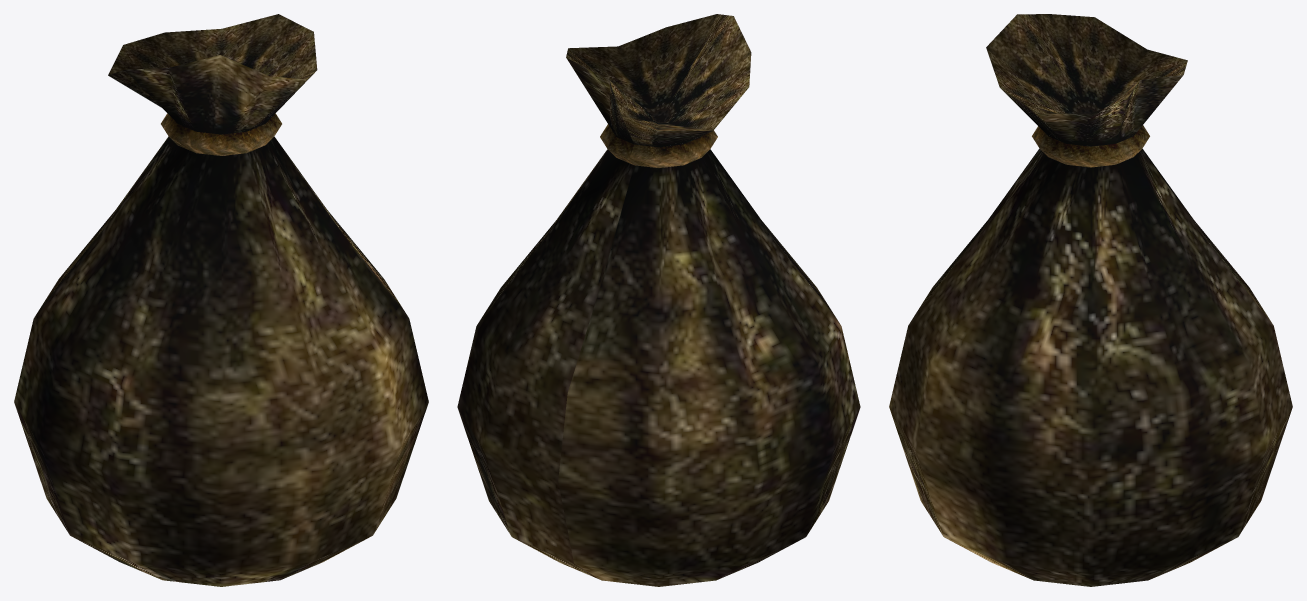
Rendered from KM_POCKET_09.glb.
The picture shows the model from 3 angles, left to right: view 1: azimuth 30°, elevation 25°; view 2: azimuth 150°, elevation 25°; view 3: azimuth 270°, elevation 25°; orthographic projection. The views are drawn at different scales.
Parts seen in each view (by area): view 1: Mesh; view 2: Mesh; view 3: Mesh.
Part boxes in pixels (box(x1,y1,x2,y2)): Mesh: box(14, 14, 428, 586); Mesh: box(457, 14, 860, 586); Mesh: box(889, 14, 1292, 586).
Size of the model in its own units: 0.2801 by 0.3871 by 0.2801.
Materials: 2 (2 with a texture image).
